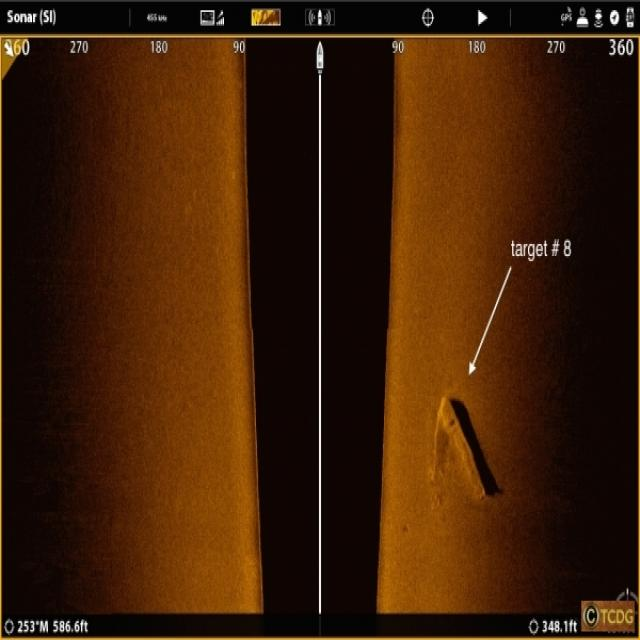ship: (431, 388, 491, 506)
